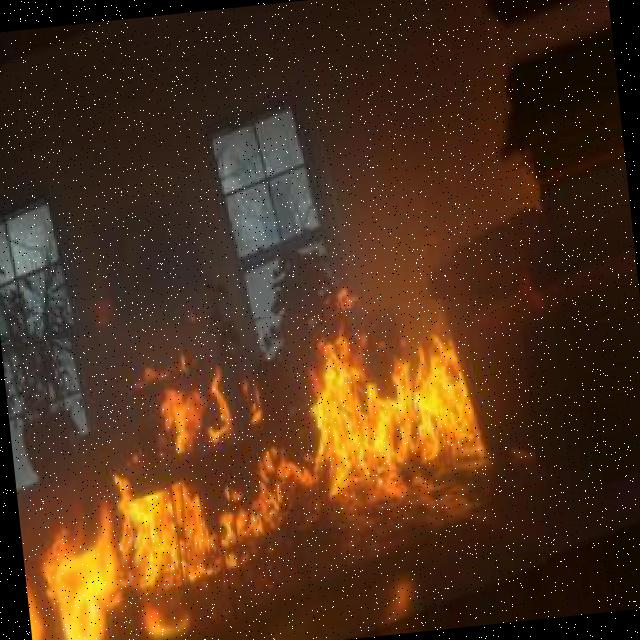fire: (0, 290, 552, 640)
